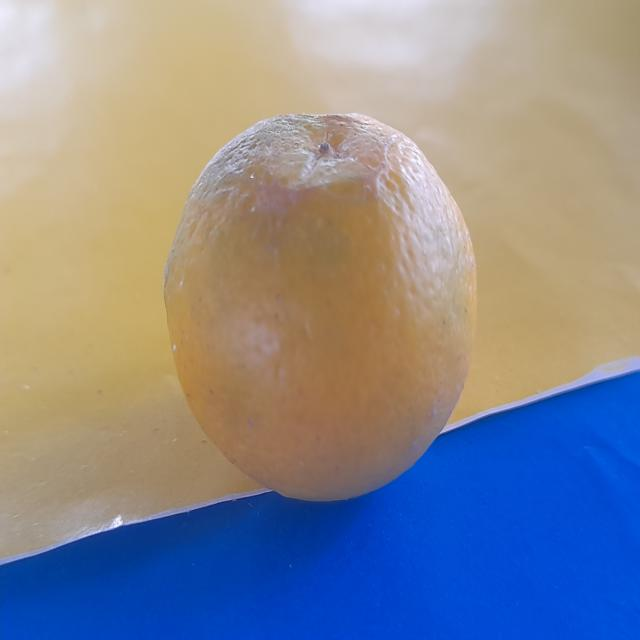greening: (158, 102, 500, 506)
